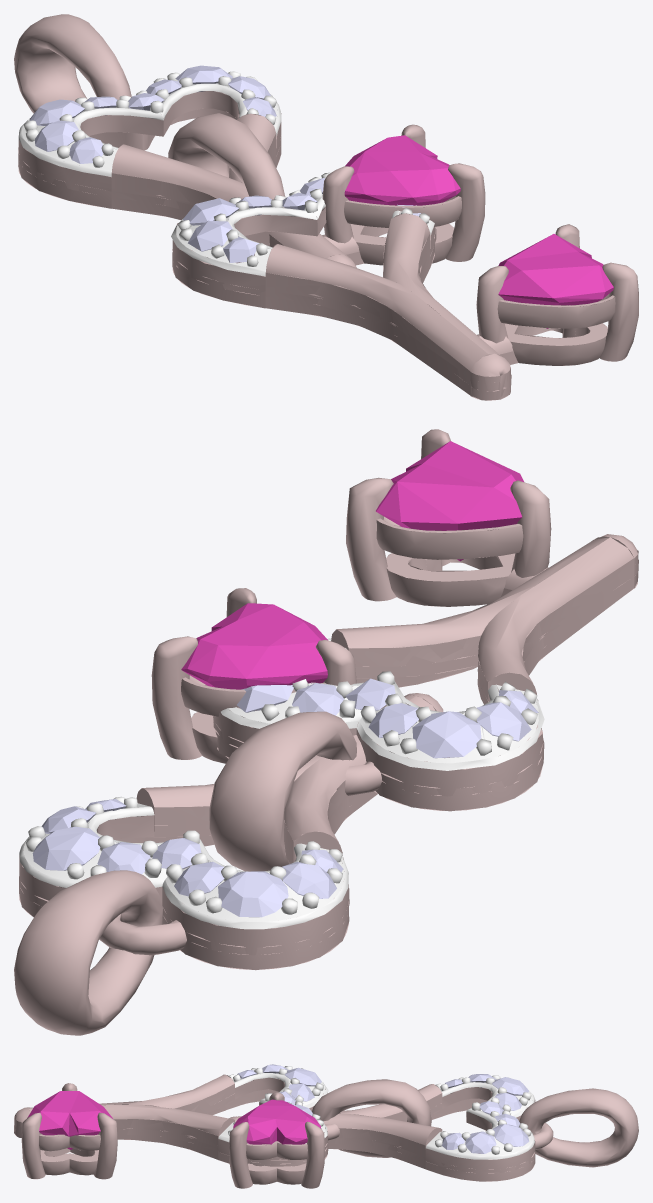
File: DPN-D000733326.glb
3 views of the same model, one above another, from view 1: azimuth 30°, elevation 25°; view 2: azimuth 150°, elevation 25°; view 3: azimuth 270°, elevation 25° (orthographic). The views are drawn at different scales.
Visible parts, largest first — view 1: lowPolyMesh, highPolyMesh; view 2: lowPolyMesh, highPolyMesh; view 3: highPolyMesh, lowPolyMesh.
Part boxes in pixels (box(x1,y1,x2,y2)): lowPolyMesh: box(168, 113, 638, 400); highPolyMesh: box(14, 14, 485, 267); lowPolyMesh: box(209, 429, 638, 871); highPolyMesh: box(14, 588, 443, 1035); highPolyMesh: box(229, 1074, 638, 1188); lowPolyMesh: box(14, 1064, 431, 1179).
Bounding box in the file's own units: 0.00955 × 0.0047 × 0.0285.
